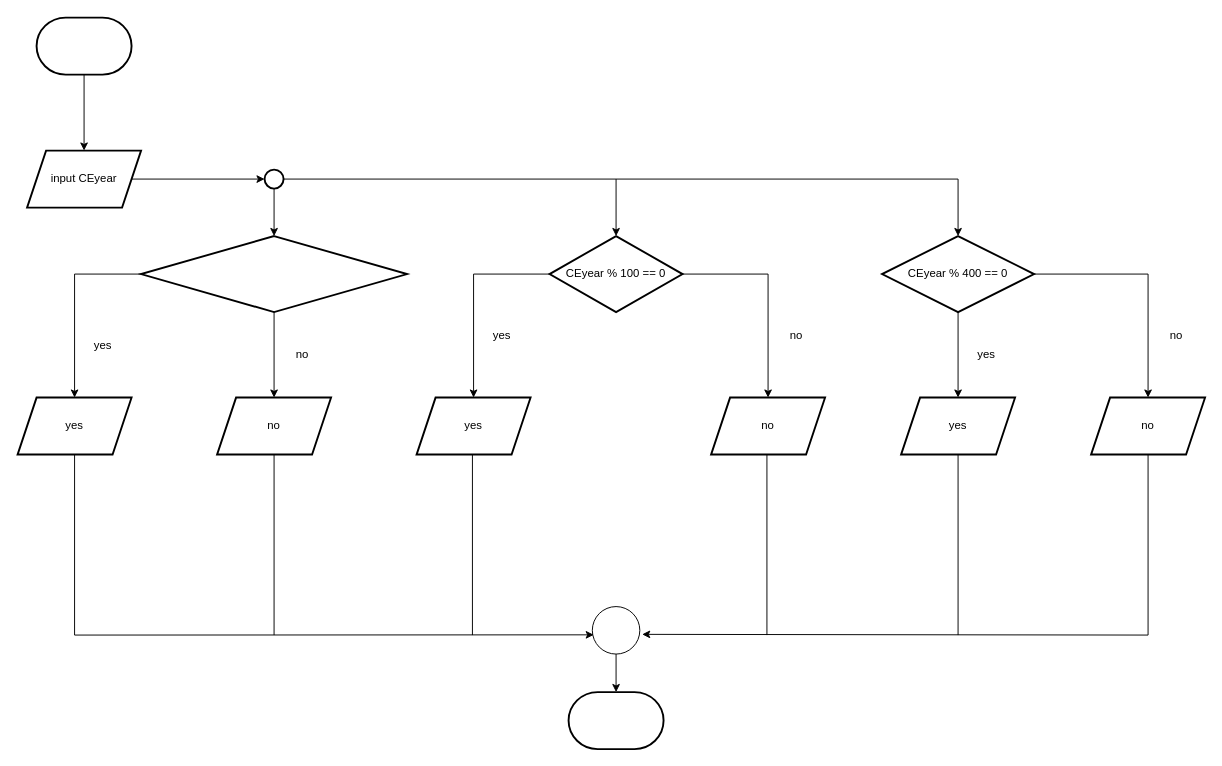
Some shapes in this 1222 by 766 pixel diagram are drawn without their labels. Each missing label, with the centre of its shape:
"CEyear % 4 == 0 && CEyear % 100 != 0" belongs at point 274,274.
"start" belongs at point 83,45.
"stop" belongs at point 615,720.
